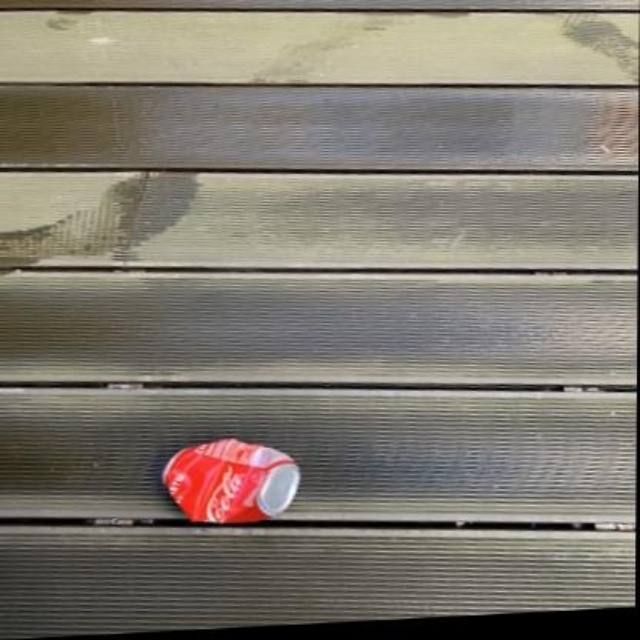trash: (163, 438, 298, 522)
